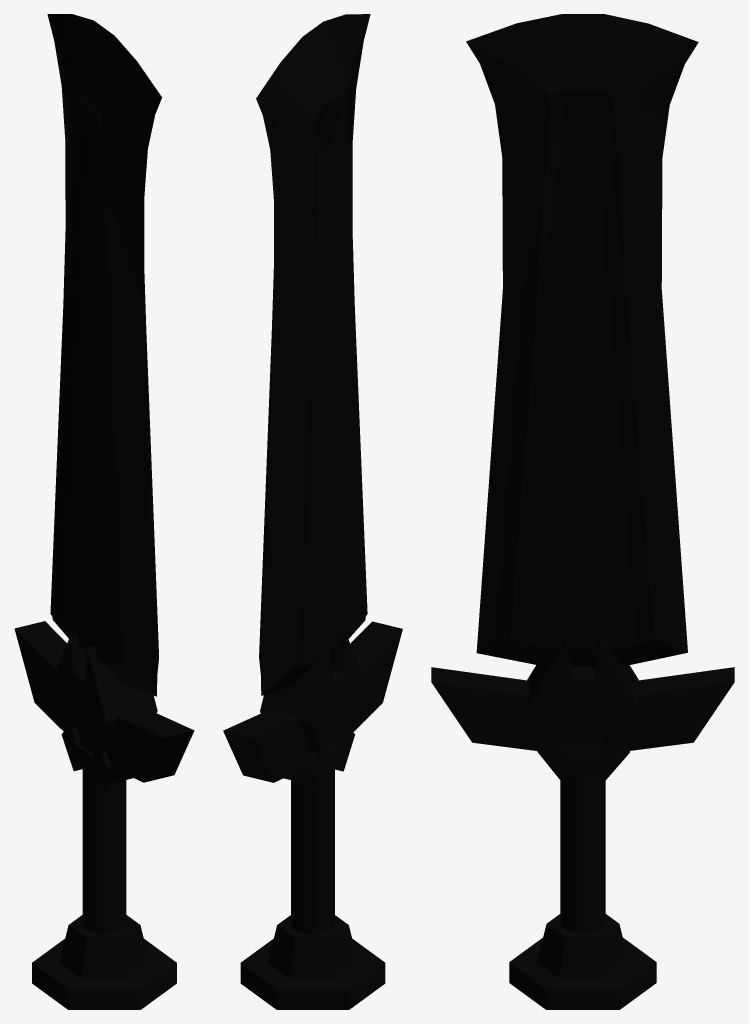
Rendered from sword (1).fbx.
The picture shows the model from 3 angles, left to right: view 1: azimuth 30°, elevation 25°; view 2: azimuth 150°, elevation 25°; view 3: azimuth 270°, elevation 25°; orthographic projection.
Visible parts, largest first — view 1: Espada; view 2: Espada; view 3: Espada.
Part boxes in pixels (bbox=[...]): Espada: bbox=[14, 14, 194, 1009]; Espada: bbox=[223, 14, 402, 1009]; Espada: bbox=[431, 14, 734, 1009].
Size of the model in its own units: 56.47 by 474 by 134.
